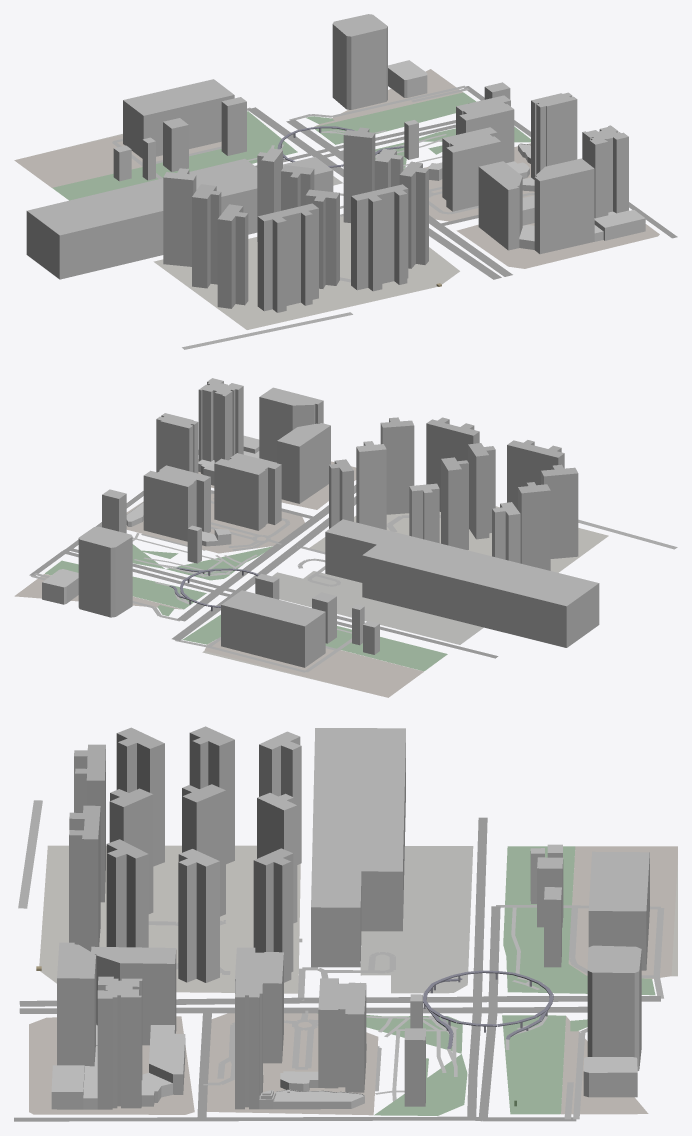
3 renders of one model, top to bottom at view 1: azimuth 30°, elevation 25°; view 2: azimuth 150°, elevation 25°; view 3: azimuth 270°, elevation 25°, orthographic. The views are drawn at different scales.
Bounding box in the file's own units: 610 × 107 × 512.
